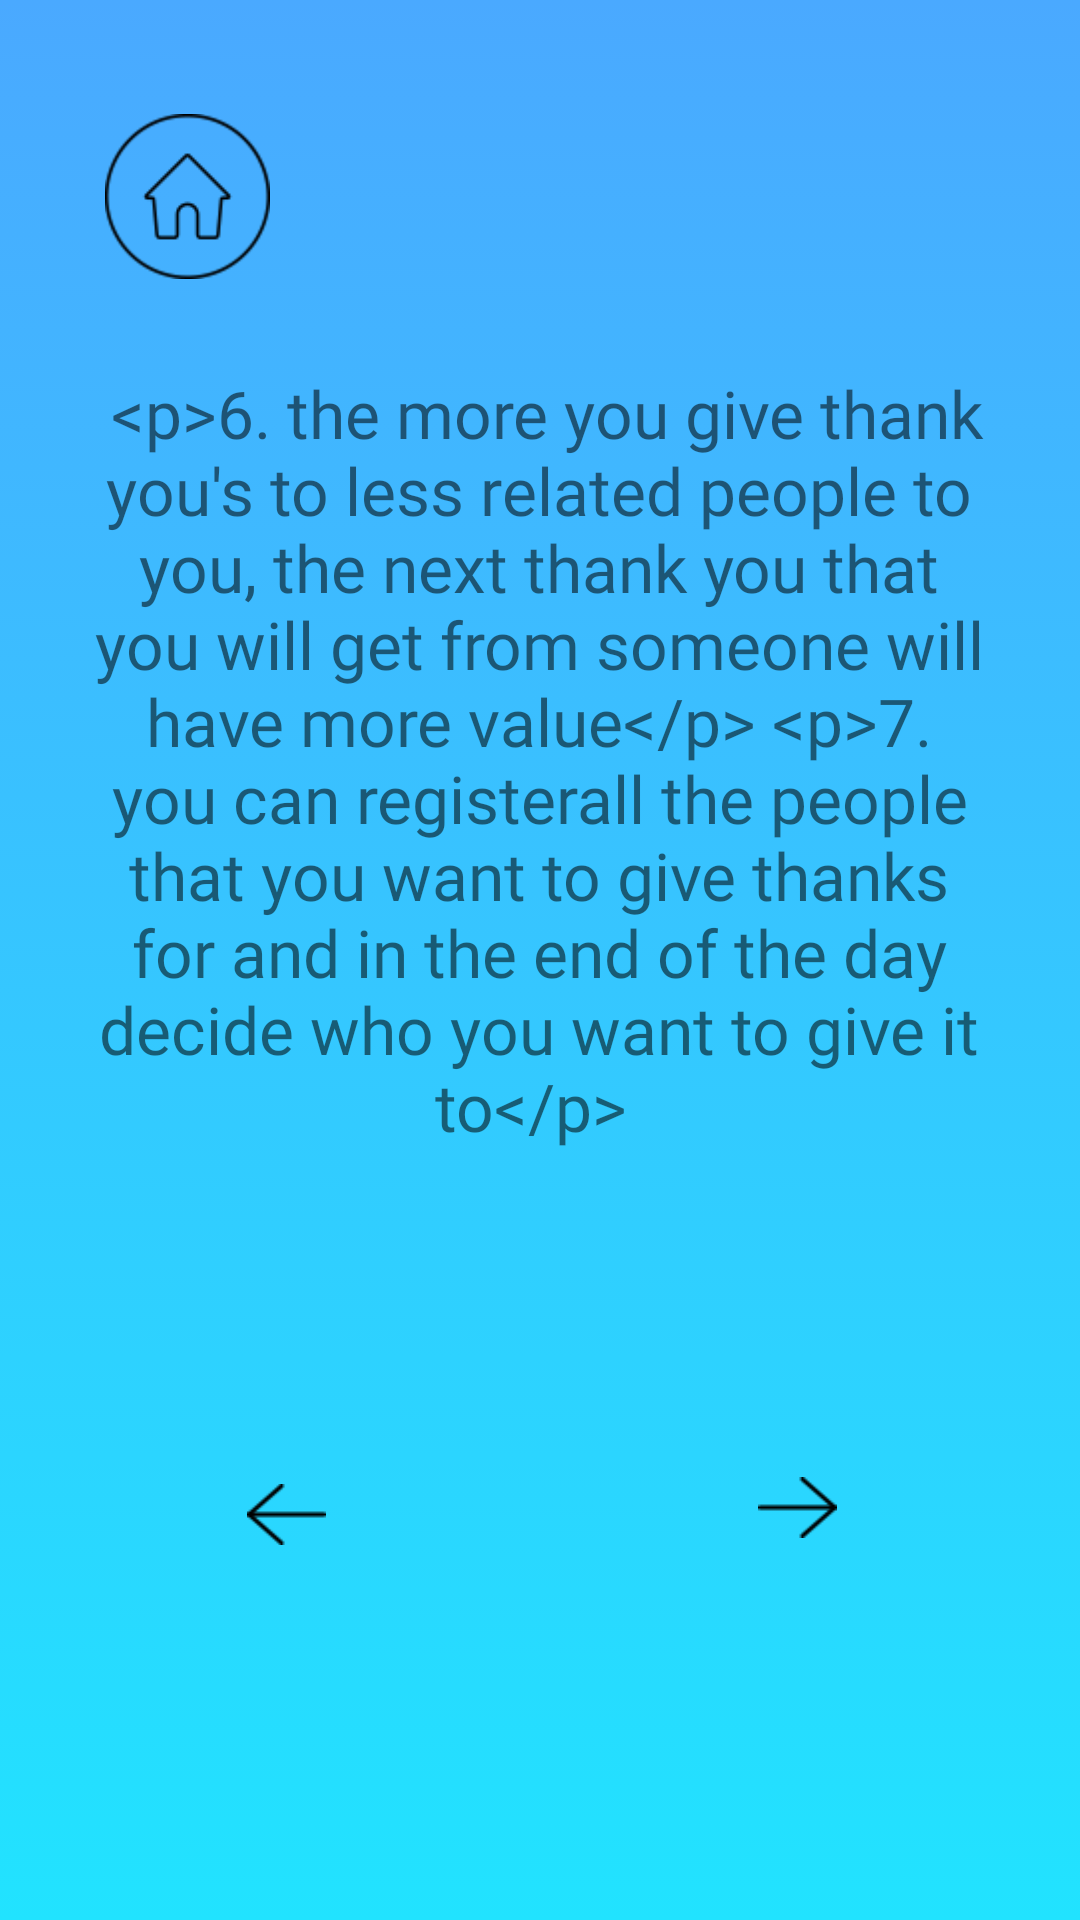

Screen size 1080w x 1920h. Icon name, then its box in pixels as (x1, y1, x2, y2):
forward arow: (758, 1477, 837, 1538)
home: (105, 114, 270, 279)
previous arrow: (247, 1484, 326, 1545)
